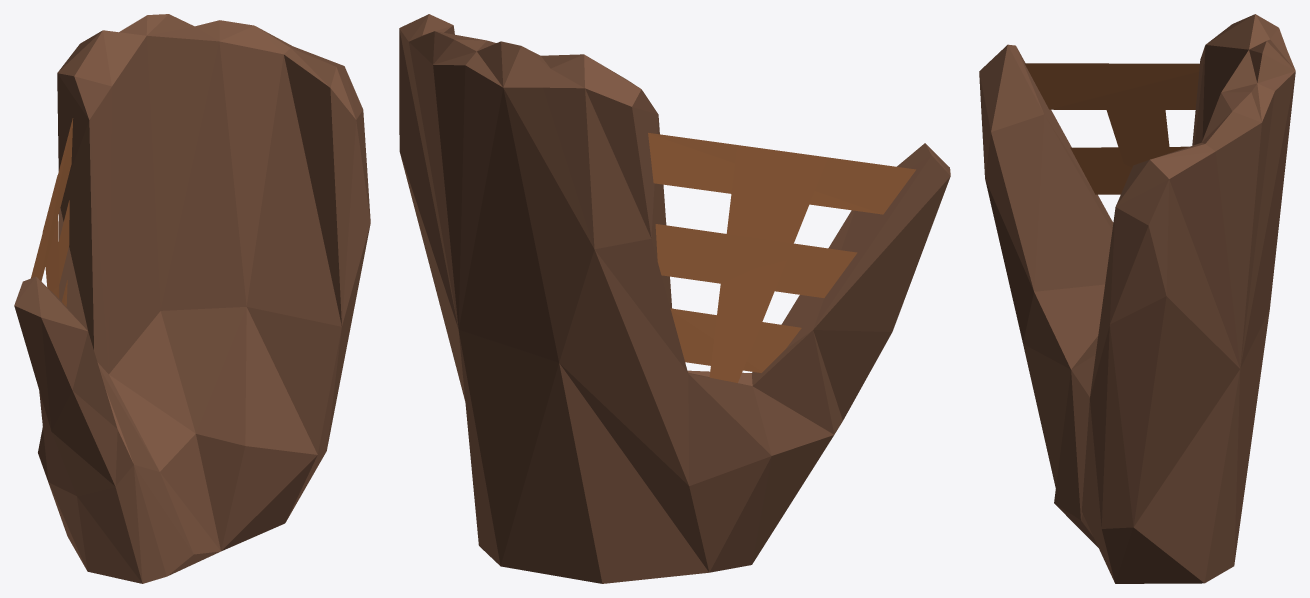
Rendered from Baseball_glove.fbx.
3 views of the same model, side by side, from view 1: azimuth 30°, elevation 25°; view 2: azimuth 150°, elevation 25°; view 3: azimuth 270°, elevation 25° (orthographic). The views are drawn at different scales.
Parts seen in each view (by area): view 1: Baseball_glove; view 2: Baseball_glove; view 3: Baseball_glove.
Boxes of the visible parts, x1,y1,x2,y2 form: Baseball_glove: [14, 14, 370, 583]; Baseball_glove: [399, 14, 950, 583]; Baseball_glove: [979, 14, 1295, 583].
Size of the model in its own units: 17.15 by 19.13 by 10.56.
